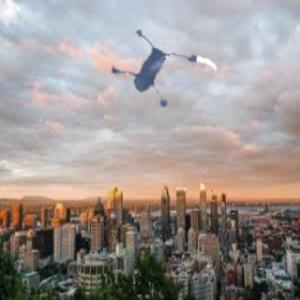drone: (97, 17, 222, 142)
